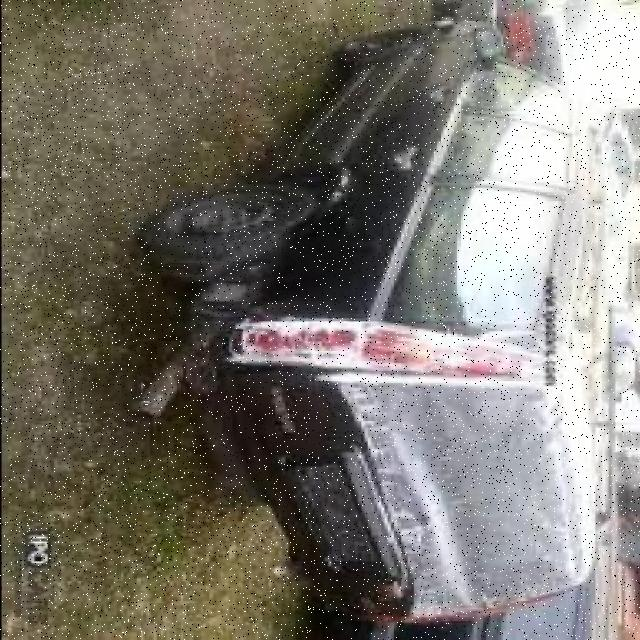damage: (167, 234, 582, 622)
